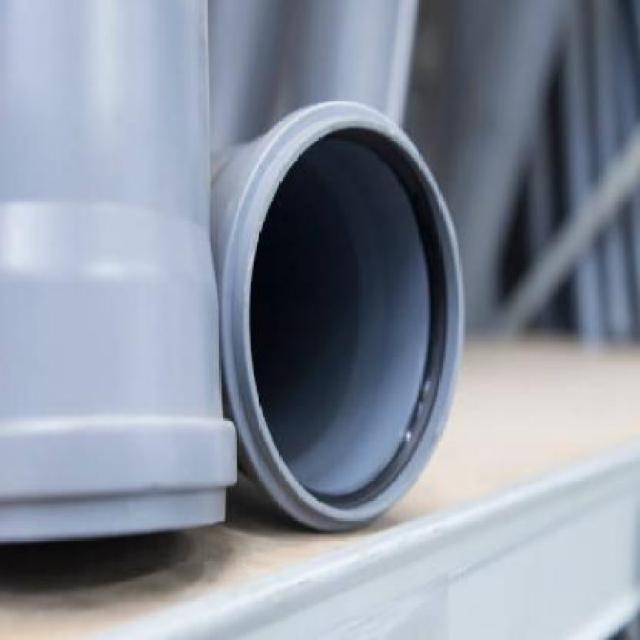pipe: (225, 102, 467, 525)
